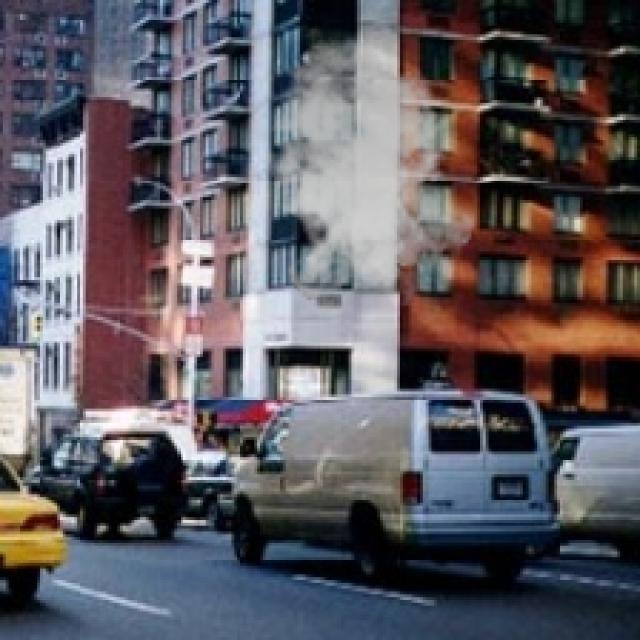smoke: (249, 37, 474, 306)
